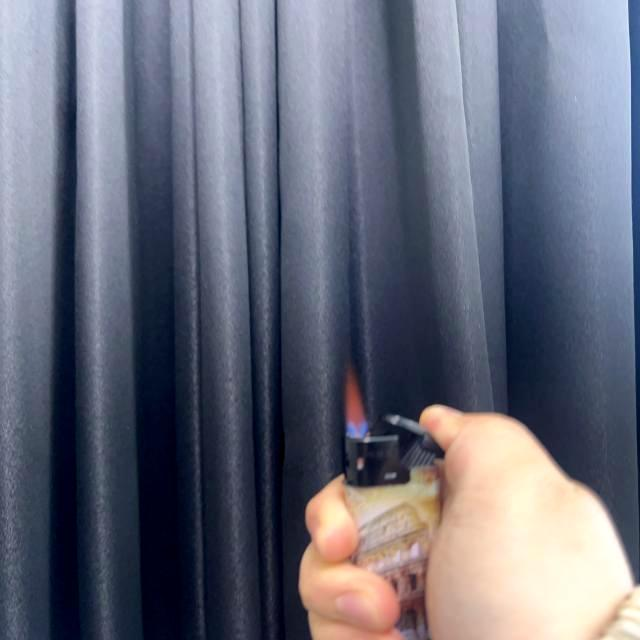fire: (341, 366, 371, 439)
